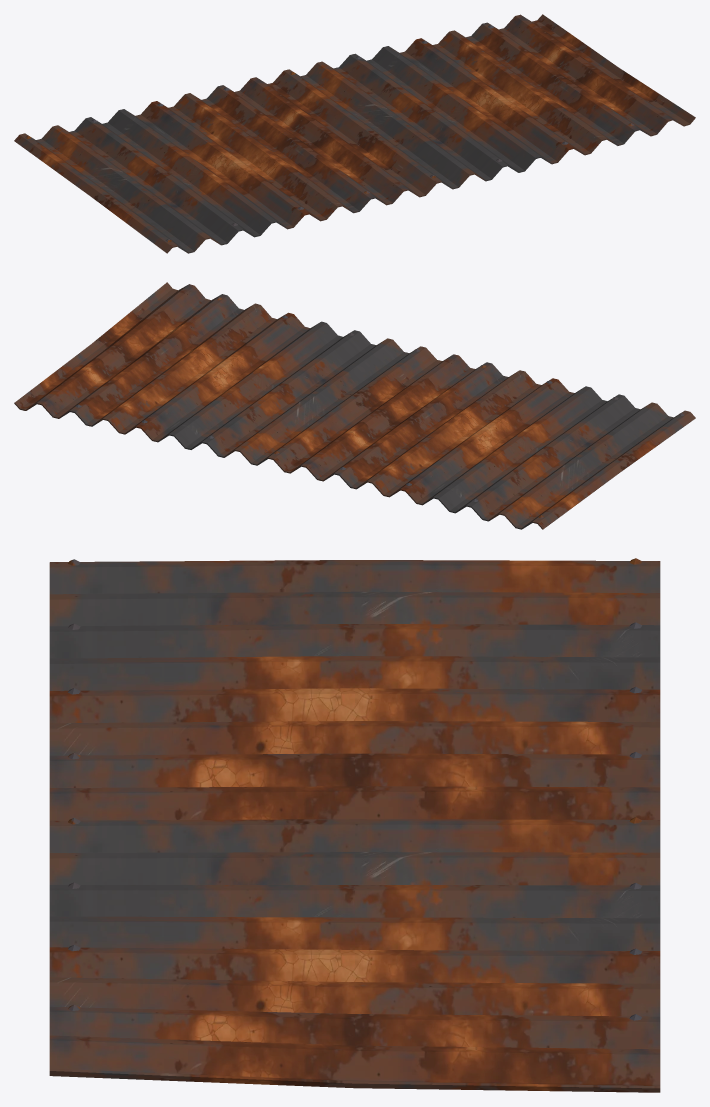
Rendered from Corrugated_Sheet.glb.
The picture shows the model from 3 angles, top to bottom: view 1: azimuth 30°, elevation 25°; view 2: azimuth 150°, elevation 25°; view 3: azimuth 270°, elevation 25°; orthographic projection. The views are drawn at different scales.
Parts seen in each view (by area): view 1: Corrugated_Sheet; view 2: Corrugated_Sheet; view 3: Corrugated_Sheet.
Part boxes in pixels (x1,y1,x2,y2): Corrugated_Sheet: (14, 14, 695, 253); Corrugated_Sheet: (14, 282, 695, 529); Corrugated_Sheet: (49, 558, 660, 1092).
Bounding box in the file's own units: 2 × 0.0666 × 1.
2 materials, 2 textured.
